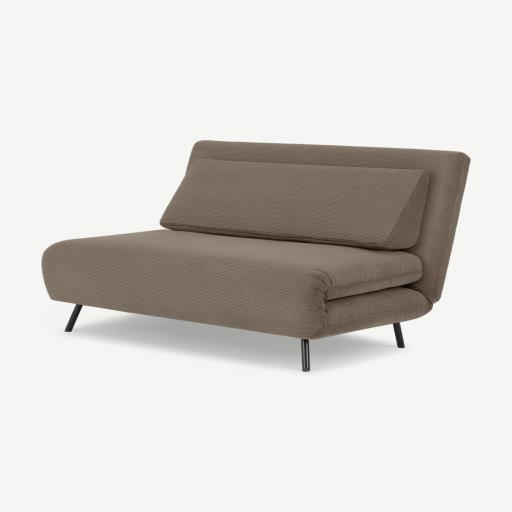back_cushion: (162, 143, 447, 273)
legs: (65, 304, 82, 331), (301, 339, 310, 371), (393, 323, 404, 347)
one-seater: (0, 0, 511, 512)
seat_cushion: (42, 230, 430, 339)
